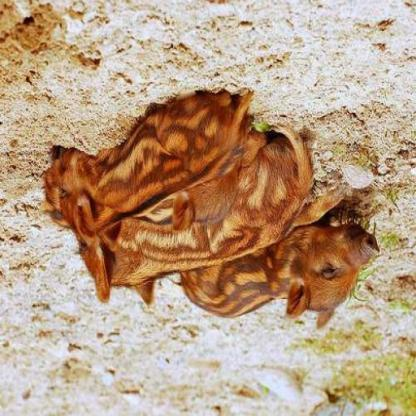boar: (197, 213, 395, 355)
